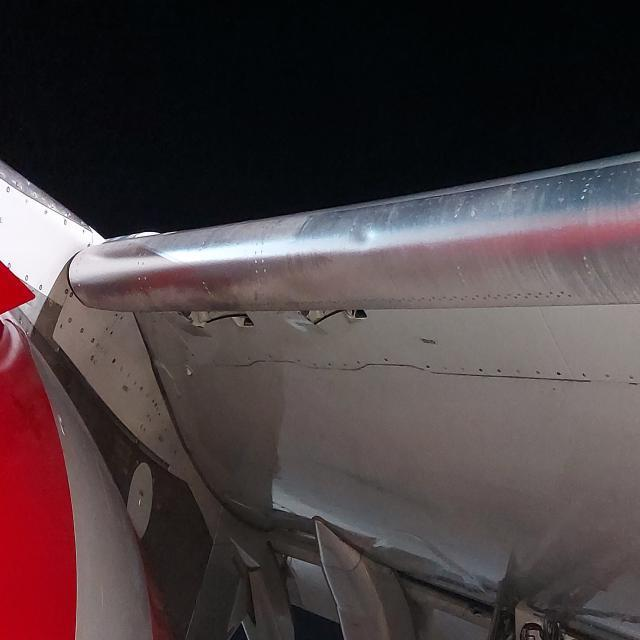dent: (346, 222, 382, 246)
